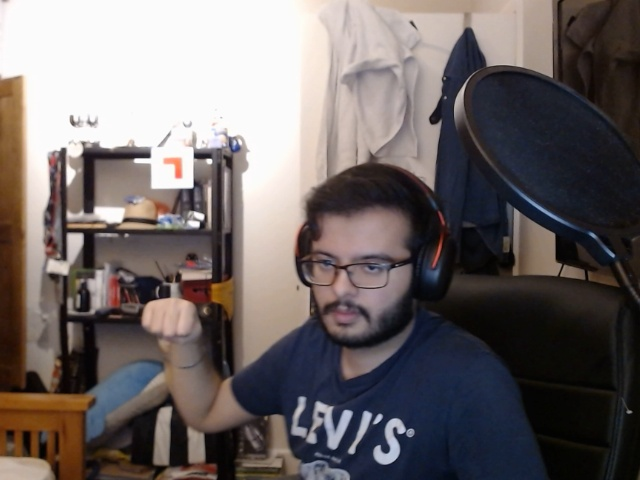Yes: (133, 291, 215, 344)
